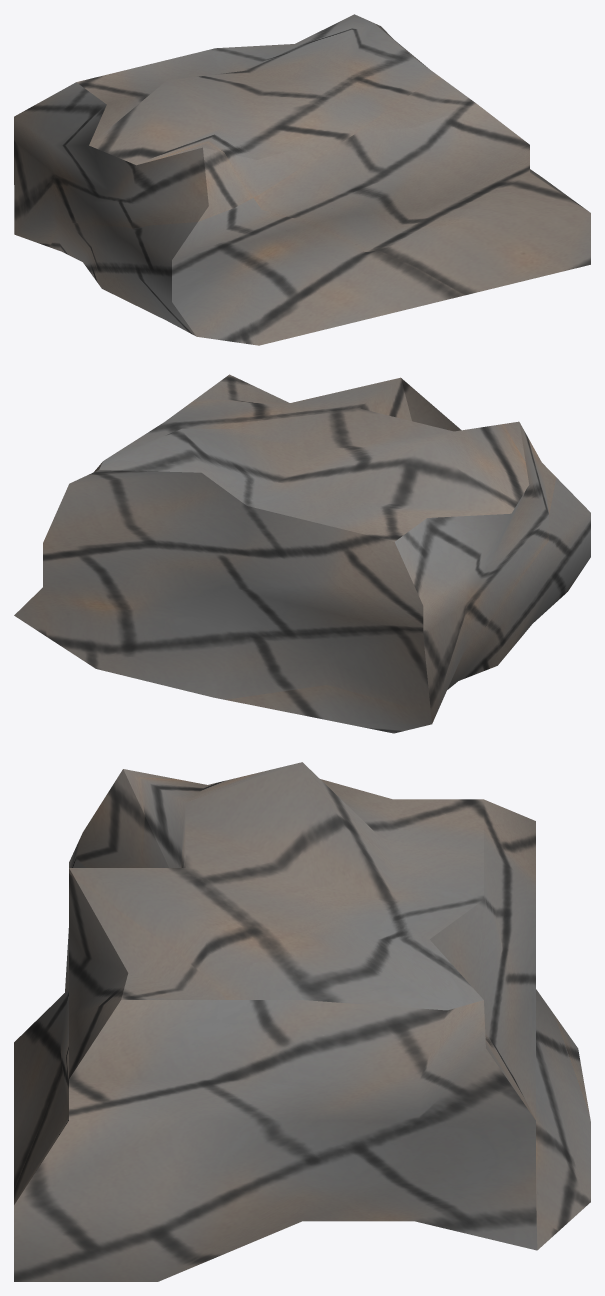
Rendered from BrokenBridgeBrick.fbx.
The picture shows the model from 3 angles, top to bottom: view 1: azimuth 30°, elevation 25°; view 2: azimuth 150°, elevation 25°; view 3: azimuth 270°, elevation 25°; orthographic projection. The views are drawn at different scales.
Parts seen in each view (by area): view 1: pCube7; view 2: pCube7; view 3: pCube7.
Boxes of the visible parts, left/top/right/bottom form: pCube7: left=14, top=14, right=590, bottom=345; pCube7: left=14, top=374, right=590, bottom=733; pCube7: left=14, top=762, right=590, bottom=1281.
Bounding box in the file's own units: 1.38 × 0.6942 × 1.15.
